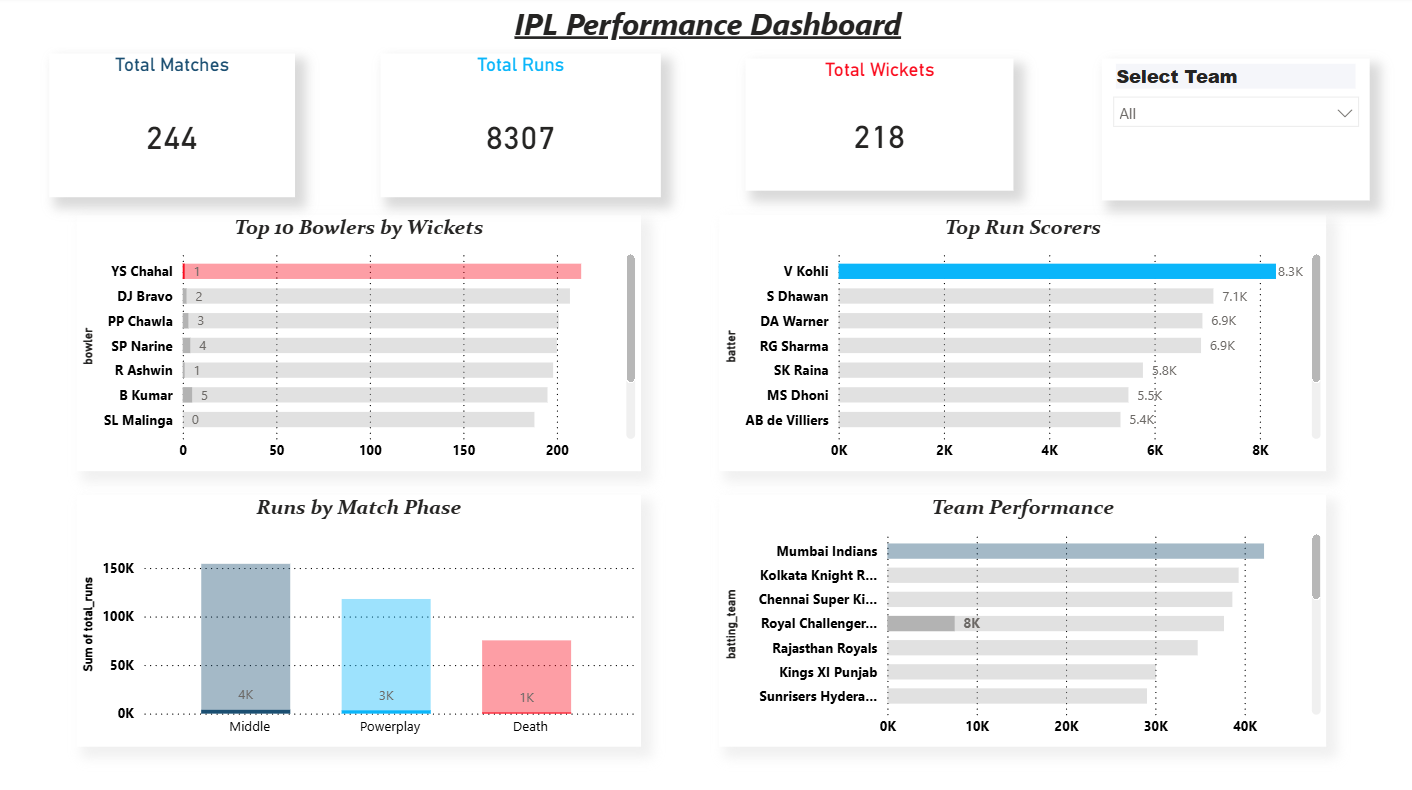

This screenshot's page, from the dashboard's own definition file:
{"tool":"powerbi","page":{"name":"IPL Dashboard1","canvas":[1280,720],"ordinal":0},"visuals":[{"type":"barChart","title":"Top 10 Bowlers by Wickets","fields":{"Category":["cleaned_ipl_data.bowler"],"Y":["Sum(cleaned_ipl_data.is_wicket)"]},"box":[71.2,197.5,508.8,231.2],"z":0},{"type":"card","title":"Total Wickets","fields":{"Values":["Sum(cleaned_ipl_data.is_wicket)"]},"box":[673.9,56.7,241.7,118.8],"z":1000},{"type":"card","title":"Total Runs","fields":{"Values":["Sum(cleaned_ipl_data.total_runs)"]},"box":[344.4,51.3,252.5,129.6],"z":2000},{"type":"card","title":"Total Matches","fields":{"Values":["Count(cleaned_ipl_data.match_id)"]},"box":[45.9,51.3,221.5,129.6],"z":3000},{"type":"barChart","title":"Top Run Scorers","fields":{"Y":["Sum(cleaned_ipl_data.total_runs)"],"Category":["cleaned_ipl_data.batter"]},"box":[650,197.5,547.5,231.2],"z":4000},{"type":"columnChart","title":"Runs by Match Phase","fields":{"Category":["cleaned_ipl_data.phase"],"Y":["Sum(cleaned_ipl_data.total_runs)"]},"box":[71.2,450,508.8,227.5],"z":5000},{"type":"clusteredBarChart","title":"Team Performance ","fields":{"Category":["cleaned_ipl_data.batting_team"],"Y":["Sum(cleaned_ipl_data.total_runs)"]},"box":[650,450,547.5,227.5],"z":6000},{"type":"textbox","box":[0,1.2,1280,45],"z":7000},{"type":"slicer","fields":{"Values":["cleaned_ipl_data.batting_team"]},"box":[995.3,56.7,241.7,128.3],"z":8000}]}

Visuals, with their boxes in screenshot pixels (x1, y1, x2, y2), scaled from the page's 1280x720 canvas onto the 1412x790 screenshot:
"Top 10 Bowlers by Wickets" barChart: <region>79, 217, 640, 470</region>
"Total Wickets" card: <region>743, 62, 1010, 193</region>
"Total Runs" card: <region>380, 56, 658, 198</region>
"Total Matches" card: <region>51, 56, 295, 198</region>
"Top Run Scorers" barChart: <region>717, 217, 1321, 470</region>
"Runs by Match Phase" columnChart: <region>79, 494, 640, 743</region>
"Team Performance " clusteredBarChart: <region>717, 494, 1321, 743</region>
textbox: <region>0, 1, 1411, 51</region>
slicer - cleaned_ipl_data.batting_team: <region>1098, 62, 1365, 203</region>
